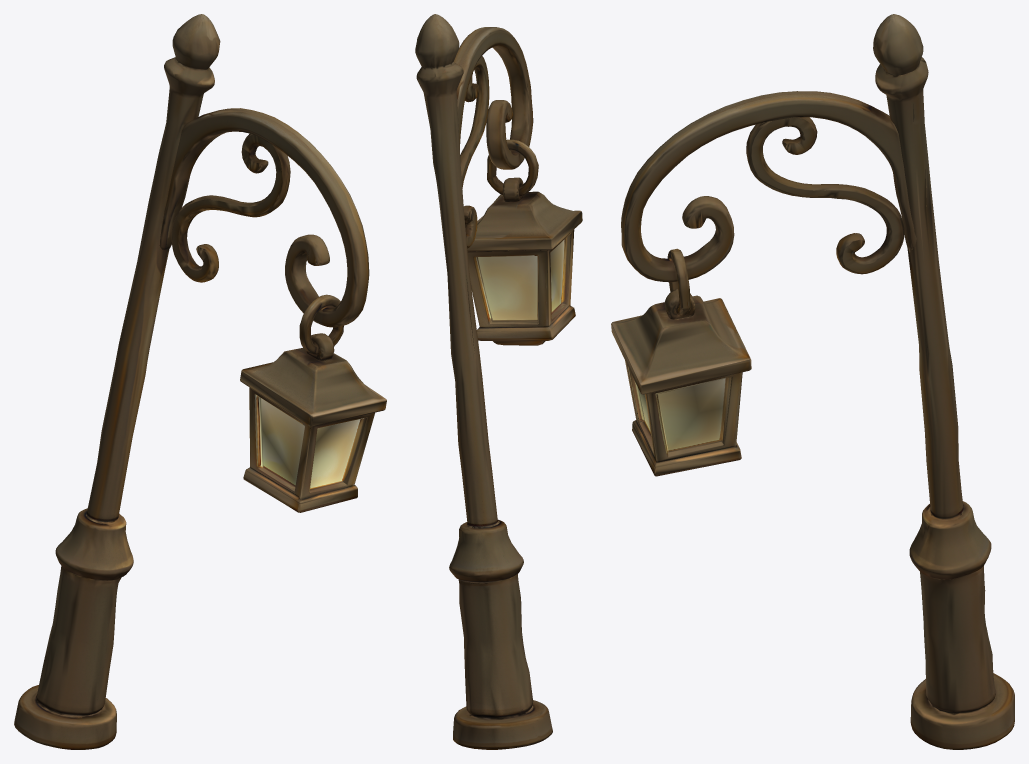
3 views of the same model, side by side, from view 1: azimuth 30°, elevation 25°; view 2: azimuth 150°, elevation 25°; view 3: azimuth 270°, elevation 25° (orthographic). The views are drawn at different scales.
Visible parts, largest first — view 1: tripo_node_27f1cf62; view 2: tripo_node_27f1cf62; view 3: tripo_node_27f1cf62.
Part boxes in pixels (x1,y1,x2,y2): tripo_node_27f1cf62: [14, 14, 386, 749]; tripo_node_27f1cf62: [415, 14, 582, 749]; tripo_node_27f1cf62: [611, 14, 1014, 749].
Bounding box in the file's own units: 0.3149 × 0.9995 × 0.4771.
Materials: 1 (1 with a texture image).
